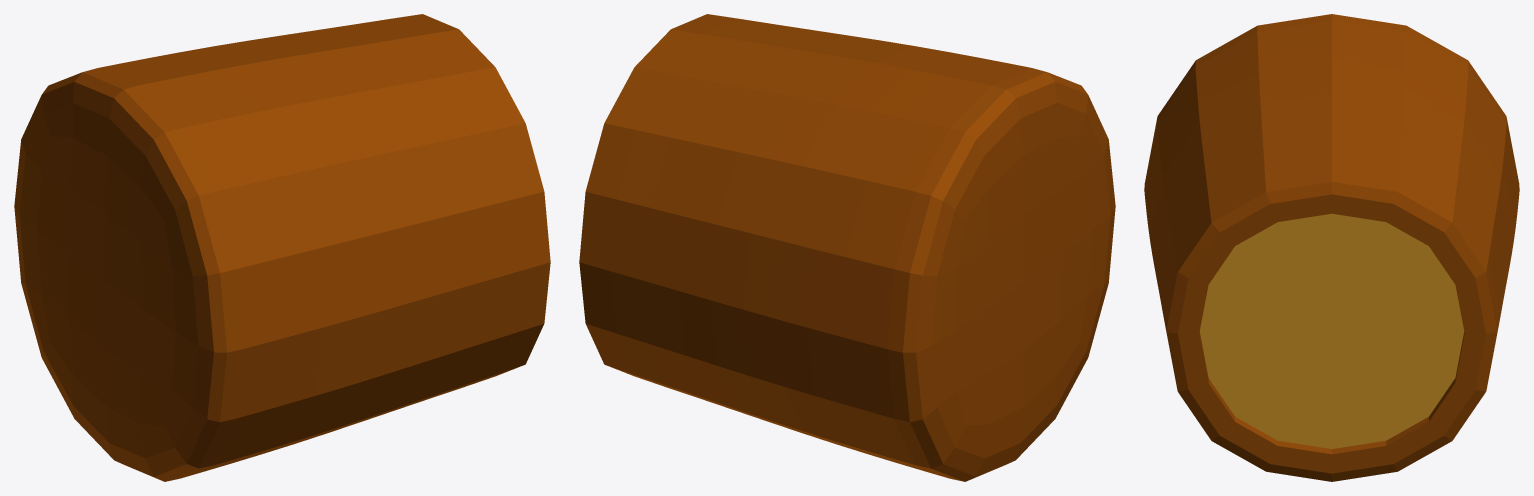
Rendered from Tronco.fbx.
3 views of the same model, side by side, from view 1: azimuth 30°, elevation 25°; view 2: azimuth 150°, elevation 25°; view 3: azimuth 270°, elevation 25° (orthographic). The views are drawn at different scales.
Parts seen in each view (by area): view 1: Tree 6 - Stump; view 2: Tree 6 - Stump; view 3: Tree 6 - Stump.
Boxes of the visible parts, x1,y1,x2,y2 form: Tree 6 - Stump: [14, 14, 550, 481]; Tree 6 - Stump: [579, 14, 1115, 481]; Tree 6 - Stump: [1144, 14, 1519, 481].
Size of the model in its own units: 100 by 100 by 100.
